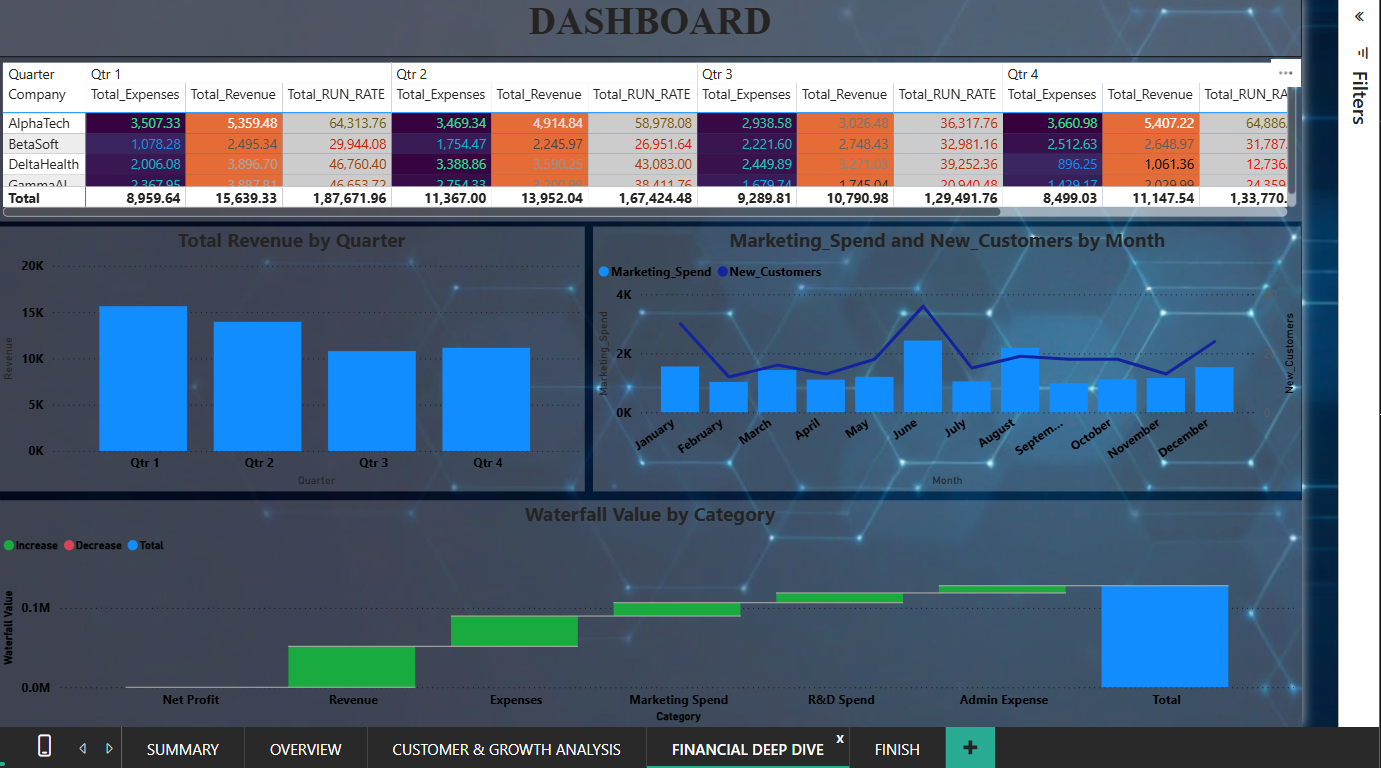

Layout of this report page (visuals, bound fields, positions):
{"tool":"powerbi","page":{"name":"FINANCIAL DEEP DIVE","canvas":[1280,720],"ordinal":3},"visuals":[{"type":"pivotTable","fields":{"Rows":["Data.Company"],"Values":["Sum(Data.Total_Expenses)","Sum(Data.Revenue)","Sum(Data.RUN_RATE)"],"Columns":["Data.Date.Variation.Date Hierarchy.Quarter","Data.Date.Variation.Date Hierarchy.Month"]},"box":[0,62.6,1279.8,160.7],"z":0},{"type":"columnChart","title":"Total Revenue by Quarter","fields":{"Y":["Sum(Data.Revenue)"],"Category":["Data.Date.Variation.Date Hierarchy.Quarter"]},"box":[0,228.5,576.2,260.4],"z":1000},{"type":"waterfallChart","fields":{"Category":["WaterfallCategories.Category"],"Y":["WaterfallCategories.Waterfall Value"]},"box":[0,497.1,1280,223.6],"z":2000},{"type":"lineClusteredColumnComboChart","fields":{"Category":["Data.Date.Variation.Date Hierarchy.Month"],"Y":["Sum(Data.Marketing_Spend)"],"Y2":["Sum(Data.New_Customers)"]},"box":[584.6,228.5,695.4,260.4],"z":3000},{"type":"textbox","box":[0,0,1280,62.2],"z":4000}]}

Visuals, with their boxes on the page's 1280x720 design canvas (x1, y1, x2, y2). These are canvas units, not pixel positions in the 1381x768 screenshot, which may show the page scaled, cropped or inside an application window:
pivotTable - Data.Company x Sum(Data.Total_Expenses): select_region(0, 63, 1280, 223)
"Total Revenue by Quarter" columnChart: select_region(0, 228, 576, 489)
waterfallChart - WaterfallCategories.Category x WaterfallCategories.Waterfall Value: select_region(0, 497, 1280, 721)
lineClusteredColumnComboChart - Data.Date.Variation.Date Hierarchy.Month x Sum(Data.Marketing_Spend): select_region(585, 228, 1280, 489)
textbox: select_region(0, 0, 1280, 62)
